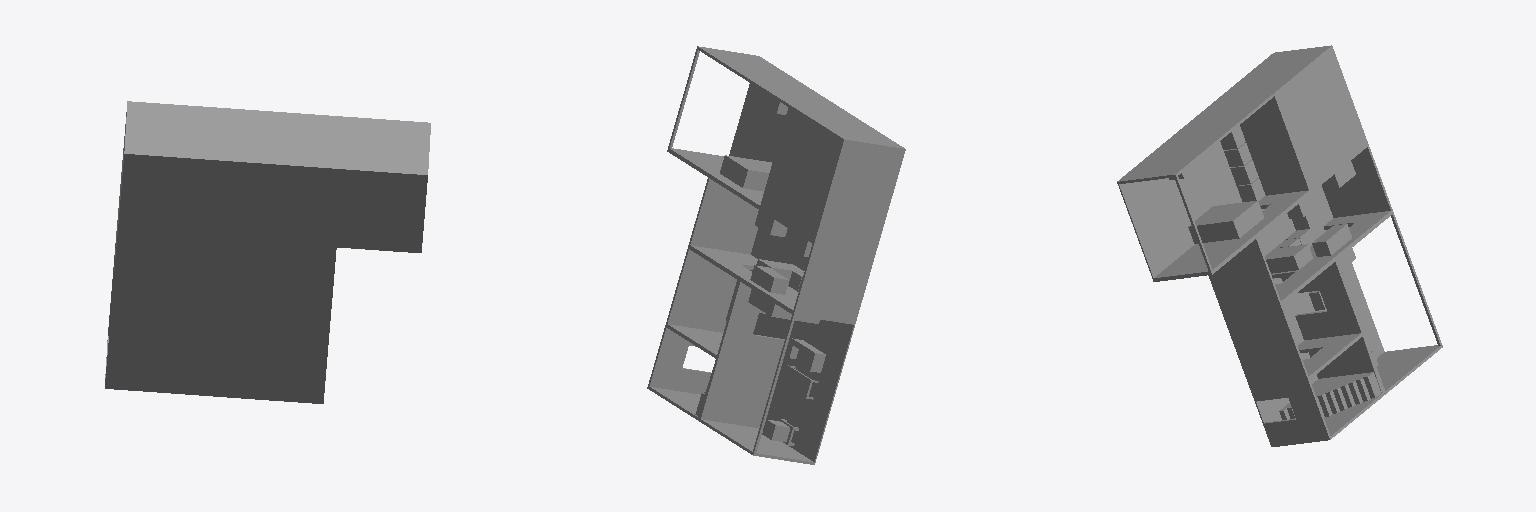
The model's file is third_cut.obj.
The picture shows the model from 3 angles: view 1: azimuth 30°, elevation 25°; view 2: azimuth 150°, elevation 25°; view 3: azimuth 270°, elevation 25°; orthographic projection.
Parts seen in each view (by area): view 1: Cube; view 2: Cube; view 3: Cube.
Boxes of the visible parts, <box> form: Cube: <box>105,101,430,403</box>; Cube: <box>647,46,905,464</box>; Cube: <box>1117,45,1442,446</box>.
Bounding box in the file's own units: 1.01 × 1.15 × 1.06.